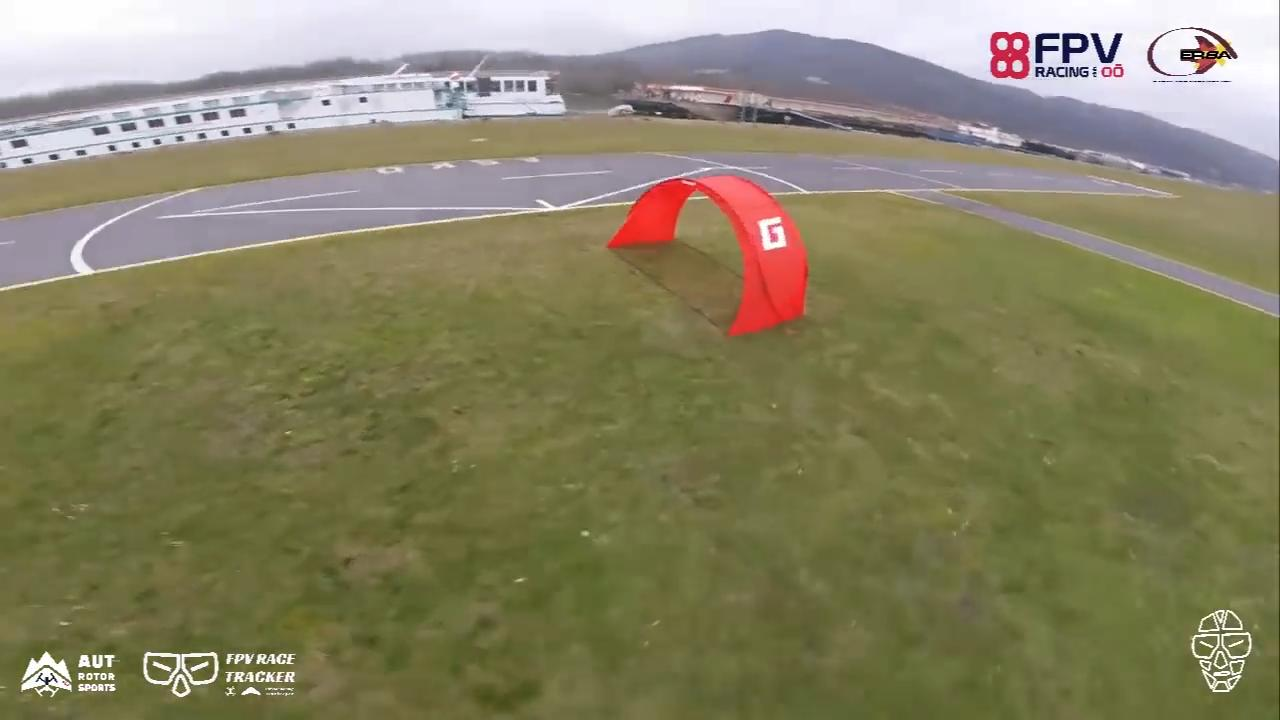gate: (603, 176, 809, 340)
